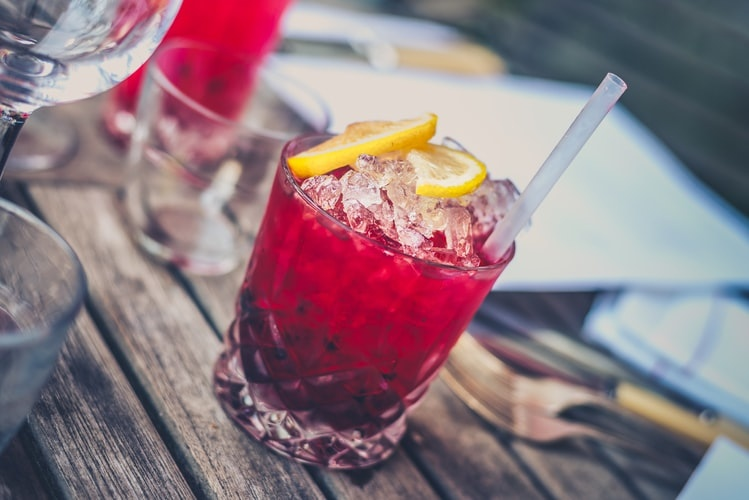whiskey: (194, 133, 519, 461)
